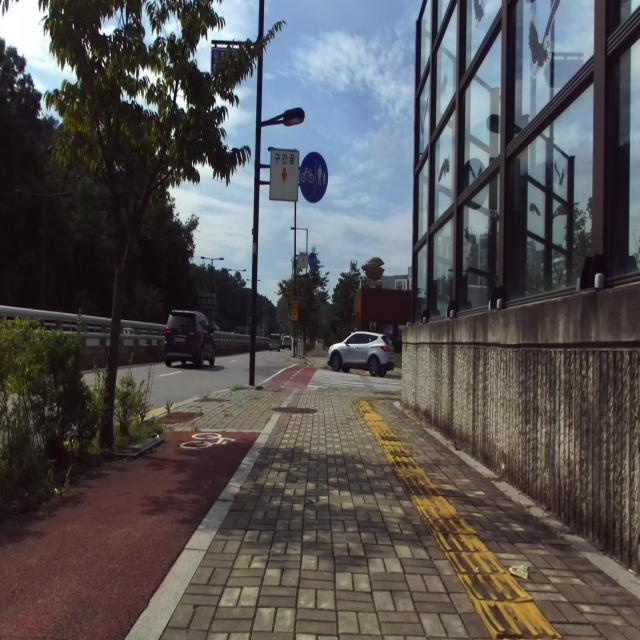횡단보도: (307, 368, 402, 391)
